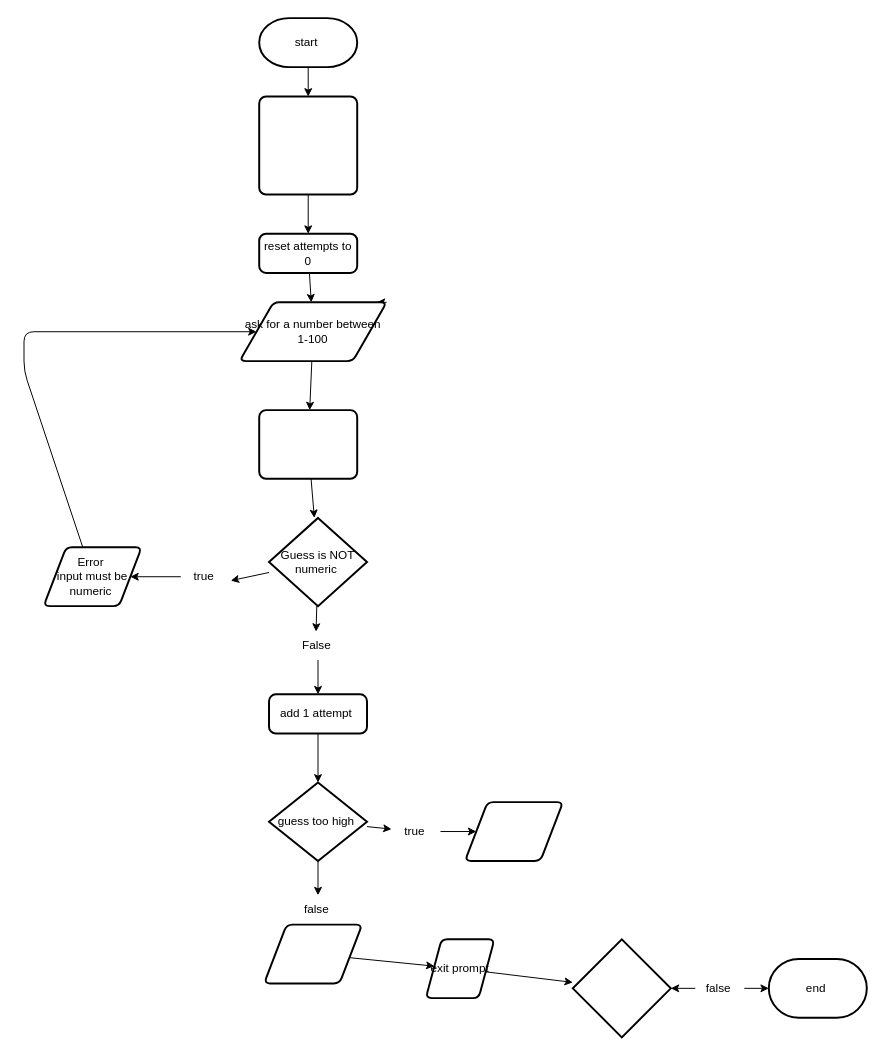
This 885x1054 diagram has some shape labels left out. The centre of each missing label's shape, as x and y in pixels:
"generate a secret random number between 1-100" goes at point 308,145.
"plyaer entered" goes at point 621,988.
"try to convert the guess to an int" goes at point 308,444.
"write guess is too high" goes at point 514,831.
"You win you guessed the X attempts" goes at point 313,953.
